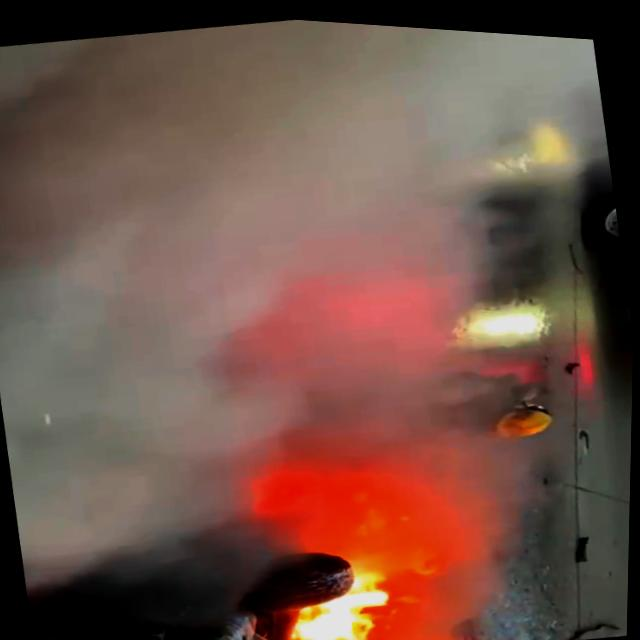fire: (245, 439, 538, 640)
smoke: (0, 0, 640, 615)
